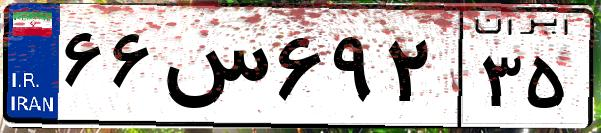2: (385, 28, 445, 110)
3: (475, 38, 525, 113)
5: (525, 38, 570, 115)
6: (270, 28, 330, 110), (57, 26, 110, 100), (110, 28, 158, 98)
9: (330, 28, 385, 110)
س: (158, 20, 270, 120)
